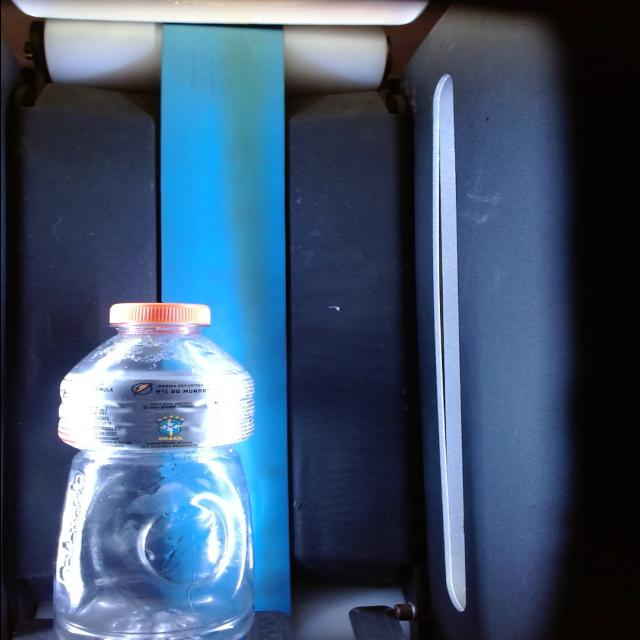bottle: (54, 303, 254, 640)
